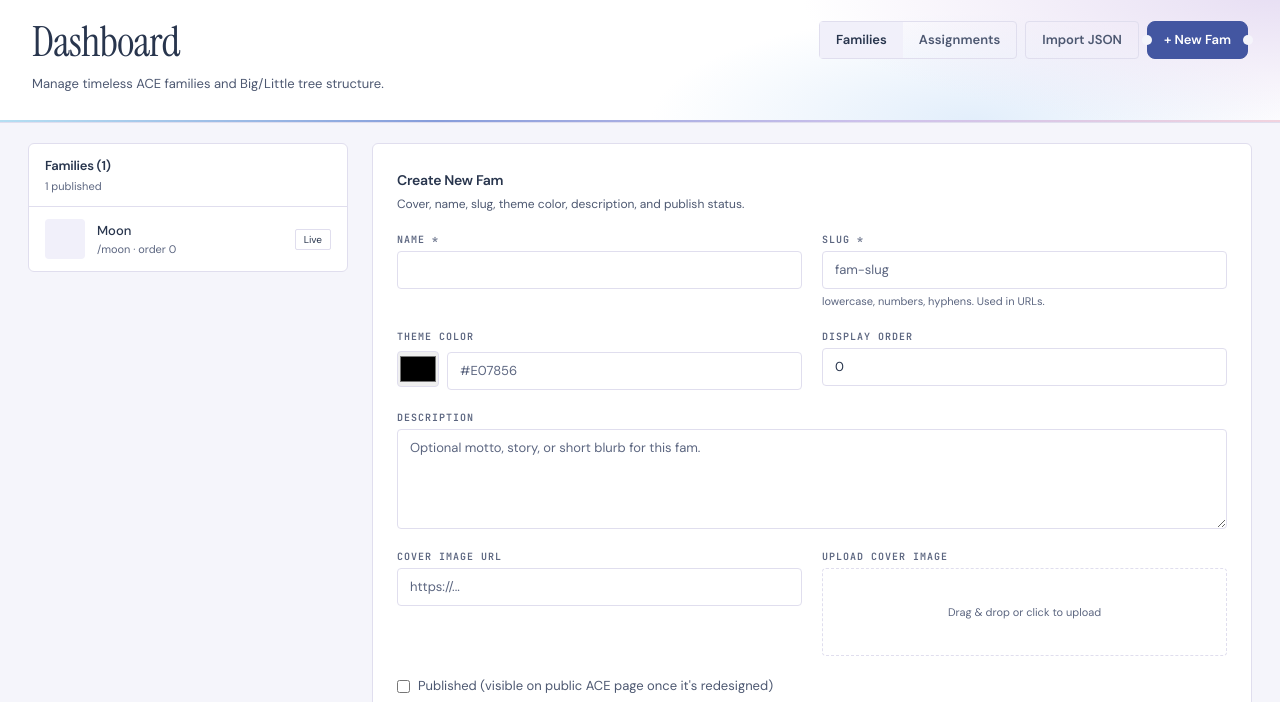
Test: linking someone who is already linked elsewhere › Don't link closes the dialog and leaves the node unlinked
Click the button "Moon /moon · order 0 Live" at (65, 239), box [29, 207, 347, 271]
(page scrolled)
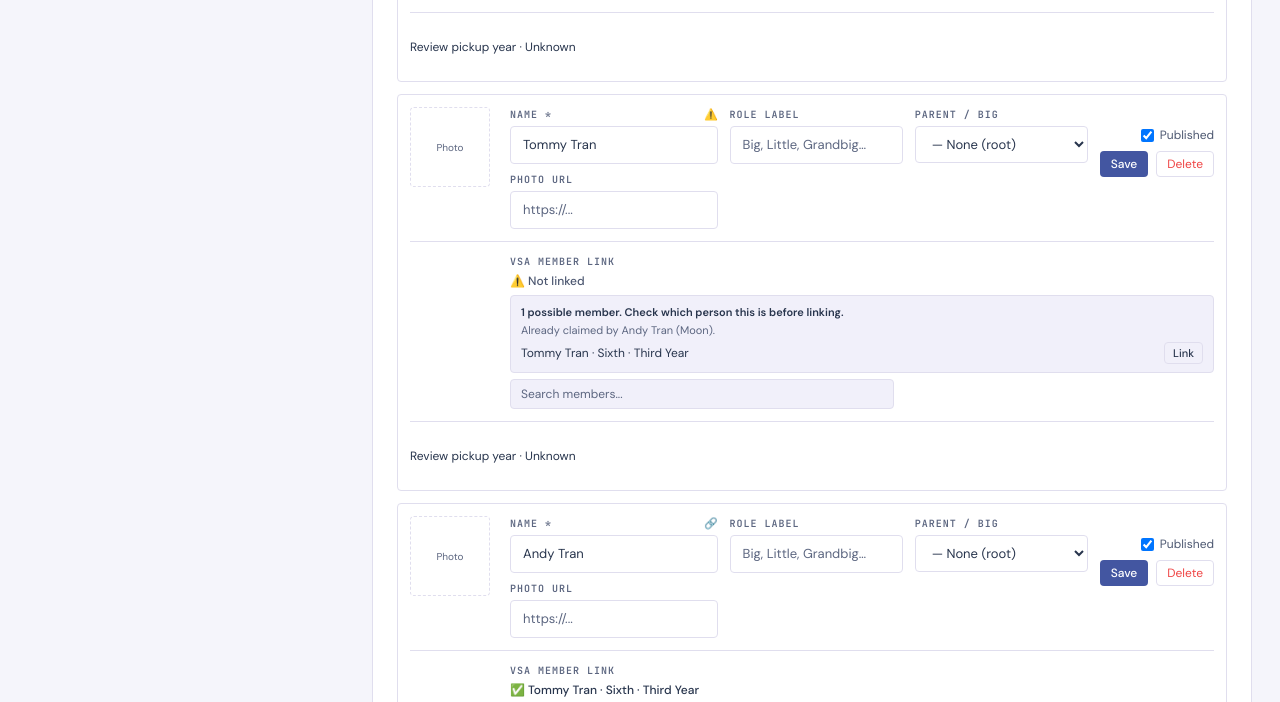
Click the button with aria-label "Link to Tommy Tran · Sixth · Third Year" at (1184, 353), box [1164, 342, 1203, 364]
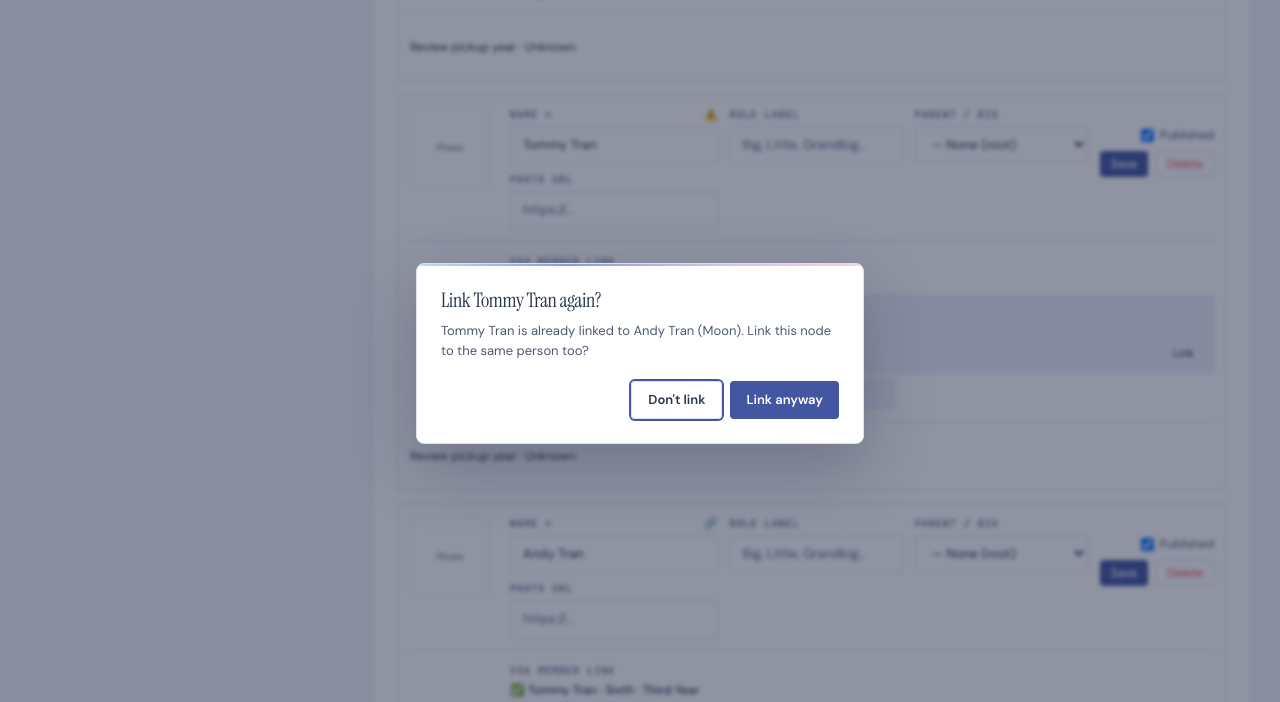
Click the button "Don't link" at (677, 400), box [631, 380, 722, 418]
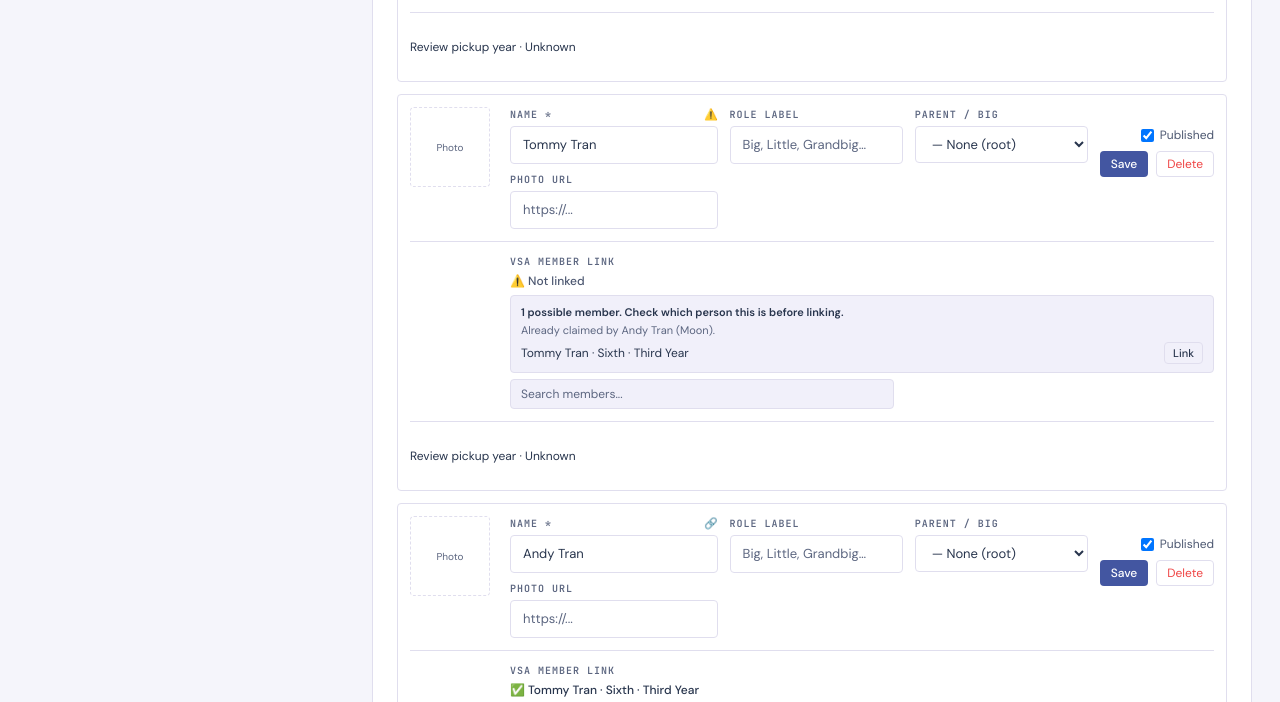
Expected: the dialog is gone
